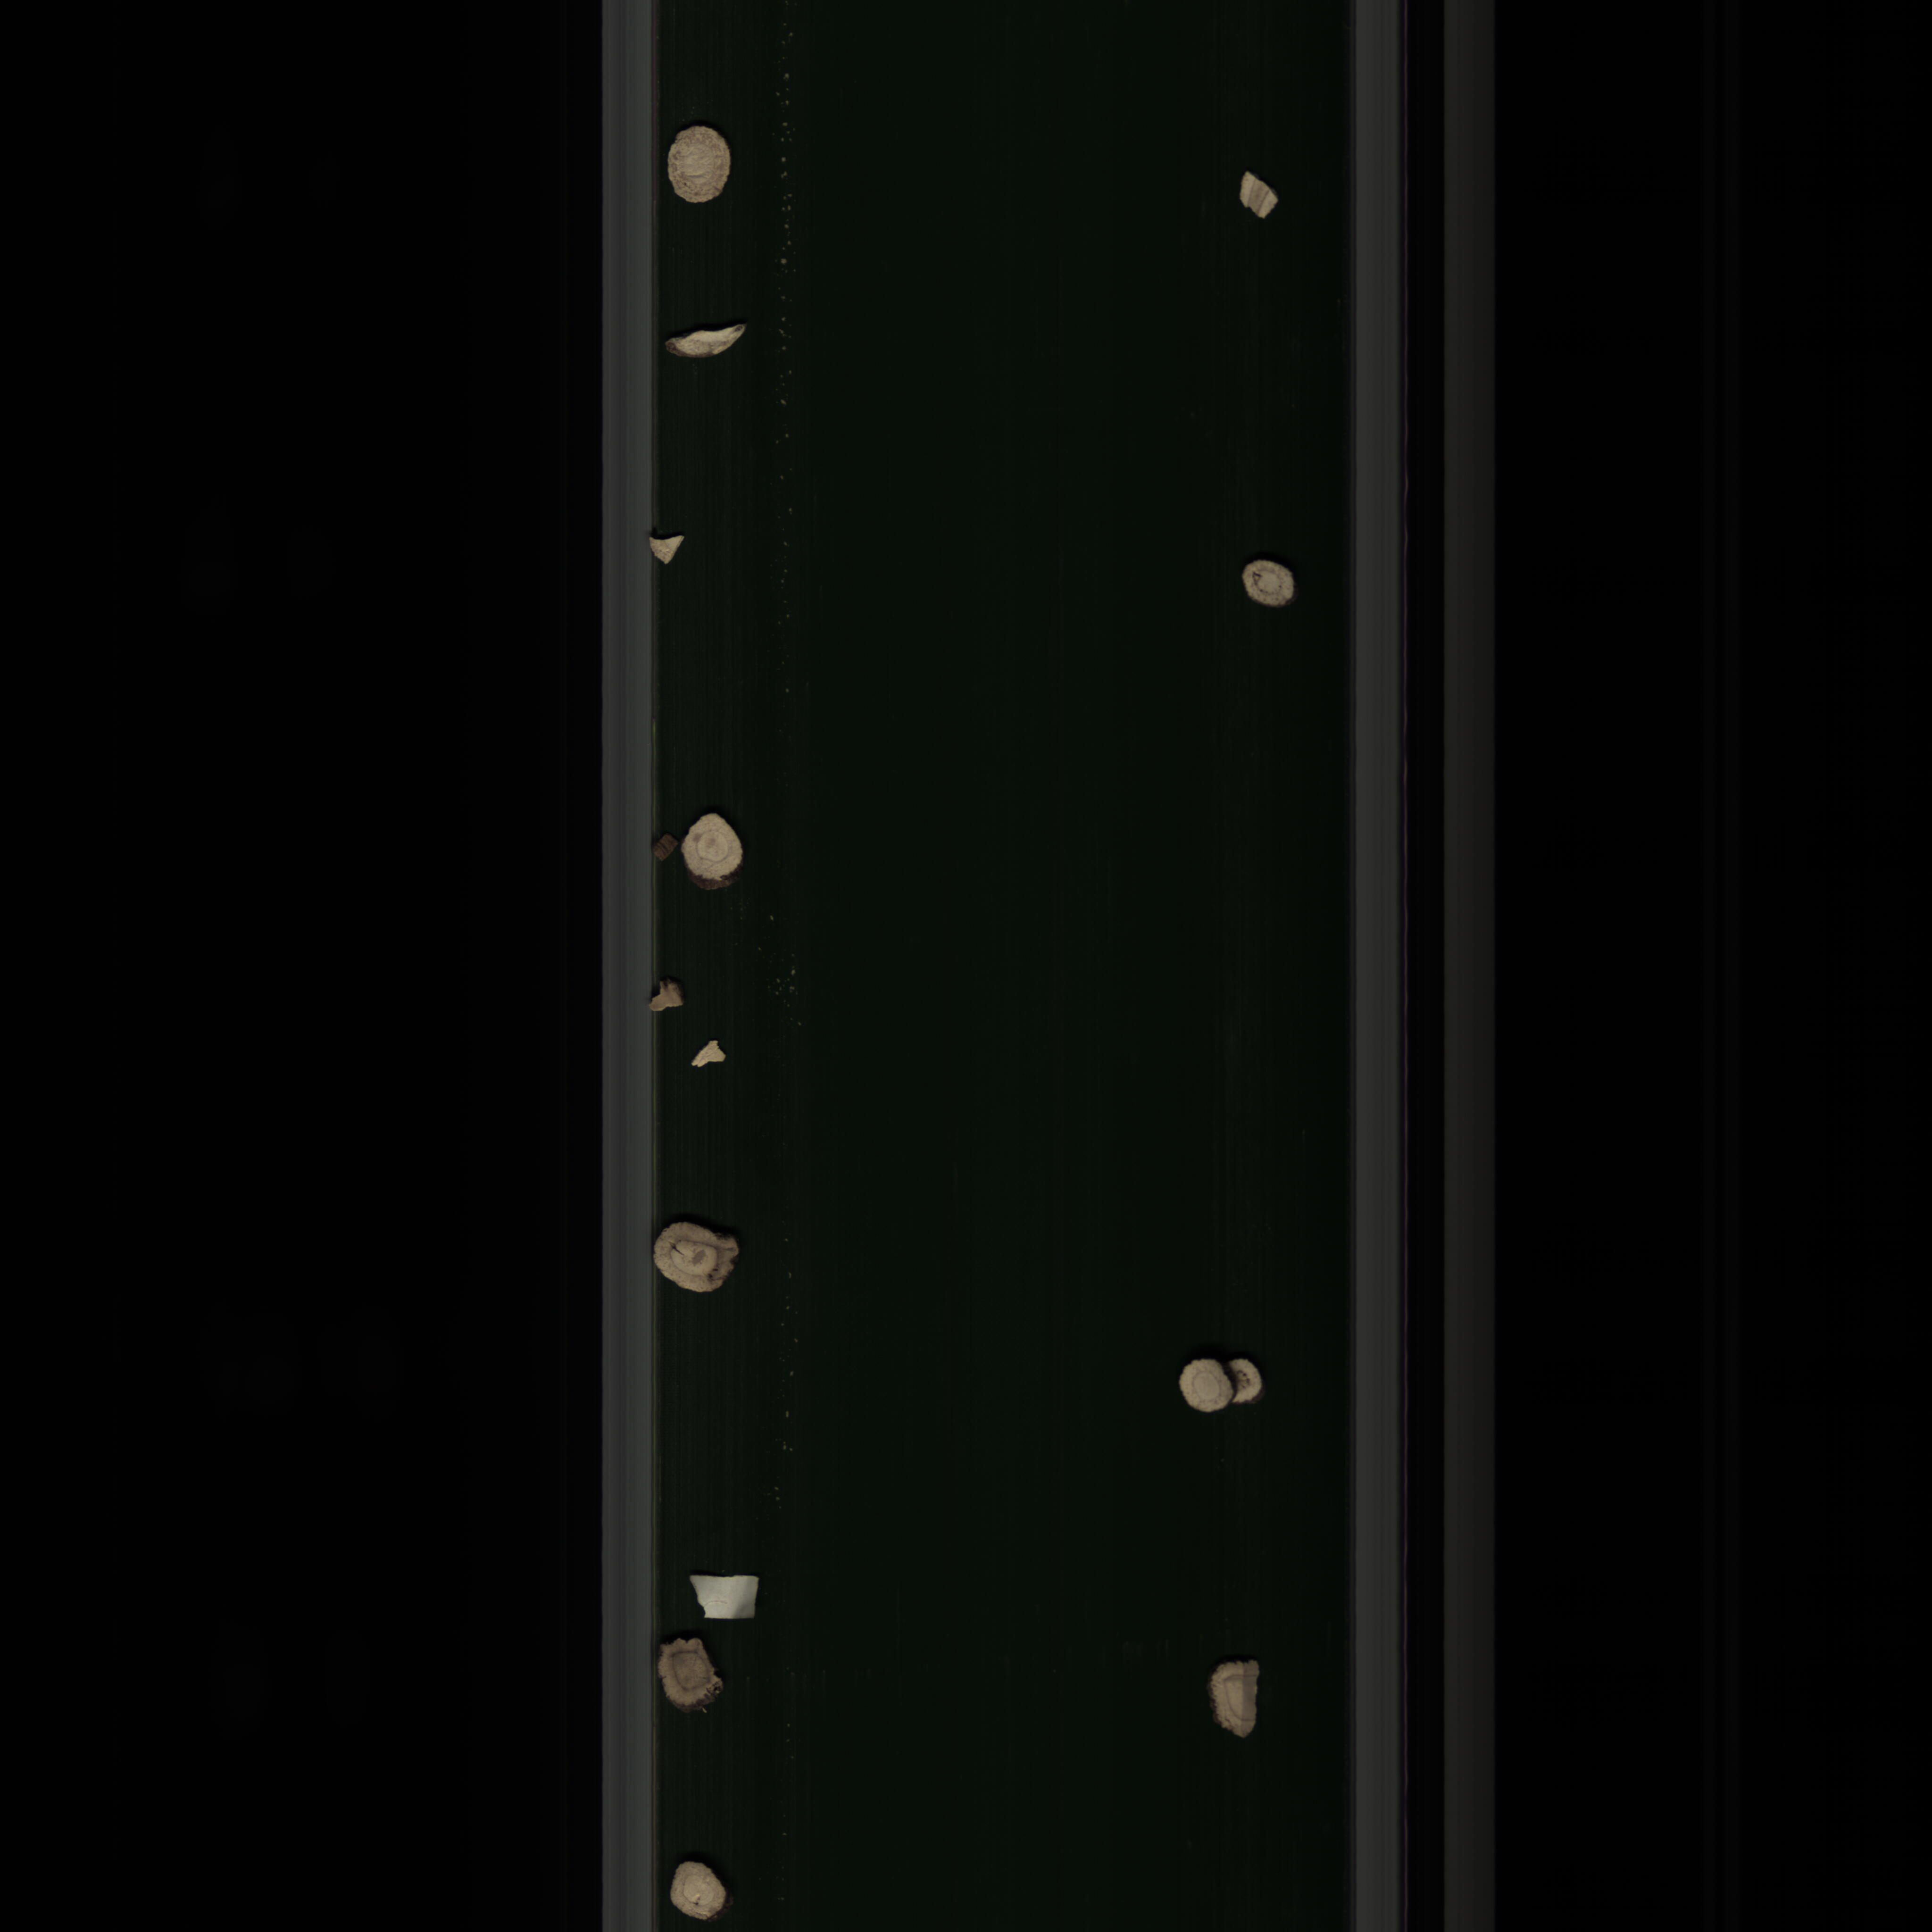bark: (646, 975, 694, 1014)
debris: (1187, 1656, 1283, 1750), (662, 320, 770, 366), (678, 1568, 770, 1621), (1233, 166, 1286, 223), (646, 527, 699, 571), (686, 1039, 729, 1069)
moldy: (648, 1217, 757, 1299), (653, 1629, 731, 1723), (1240, 548, 1307, 616)
